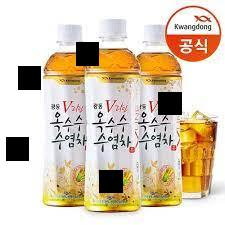oksususuyeomcha: (82, 19, 144, 212), (41, 18, 89, 212), (136, 24, 183, 208)
